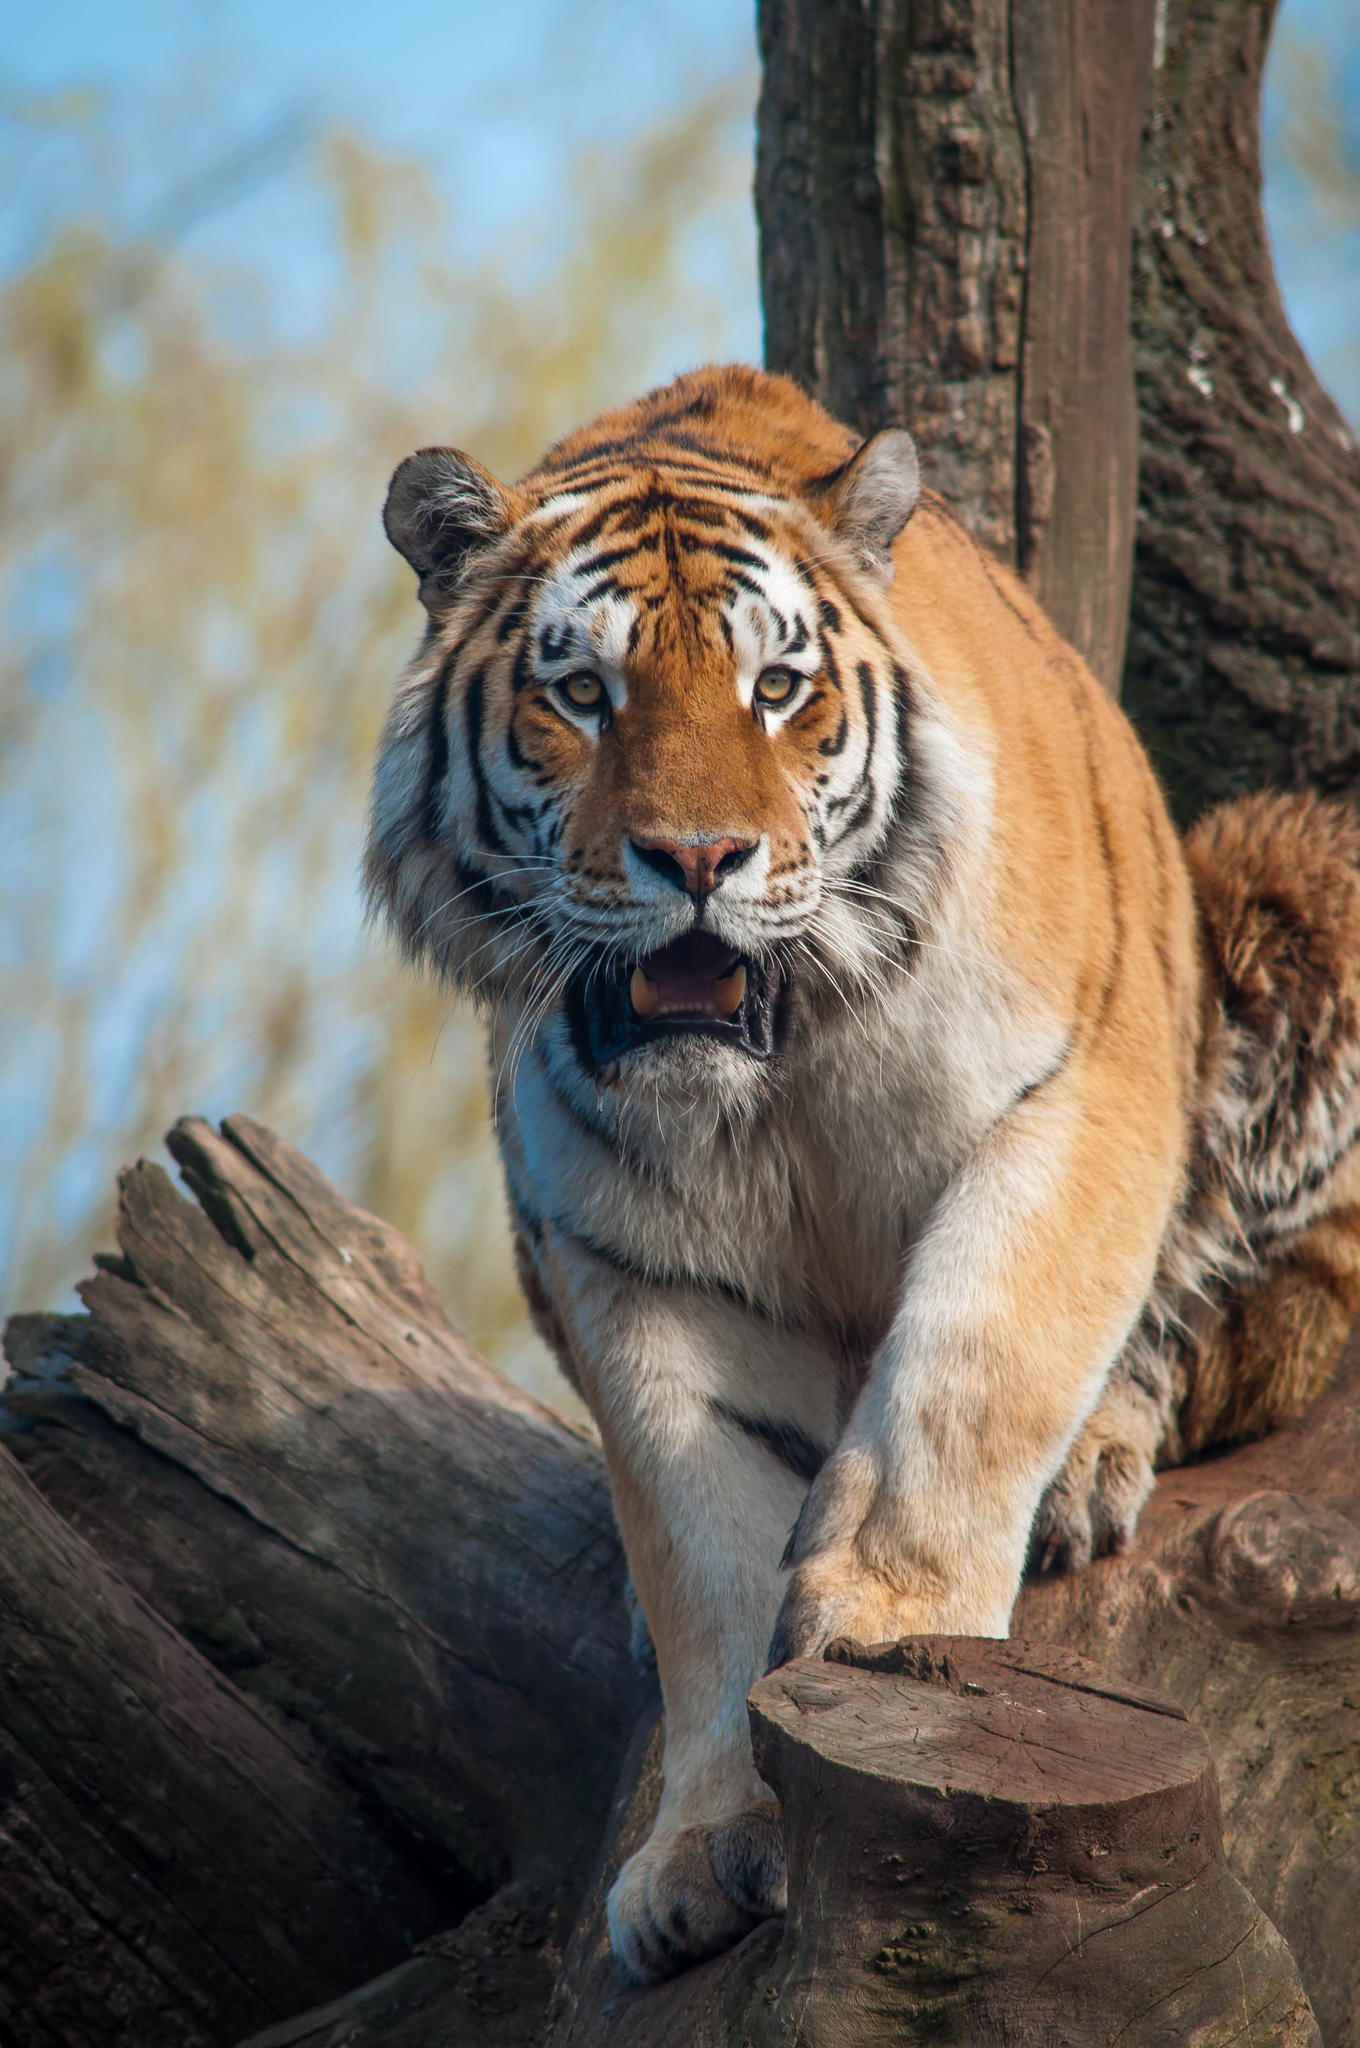tiger: (404, 372, 1226, 1916)
